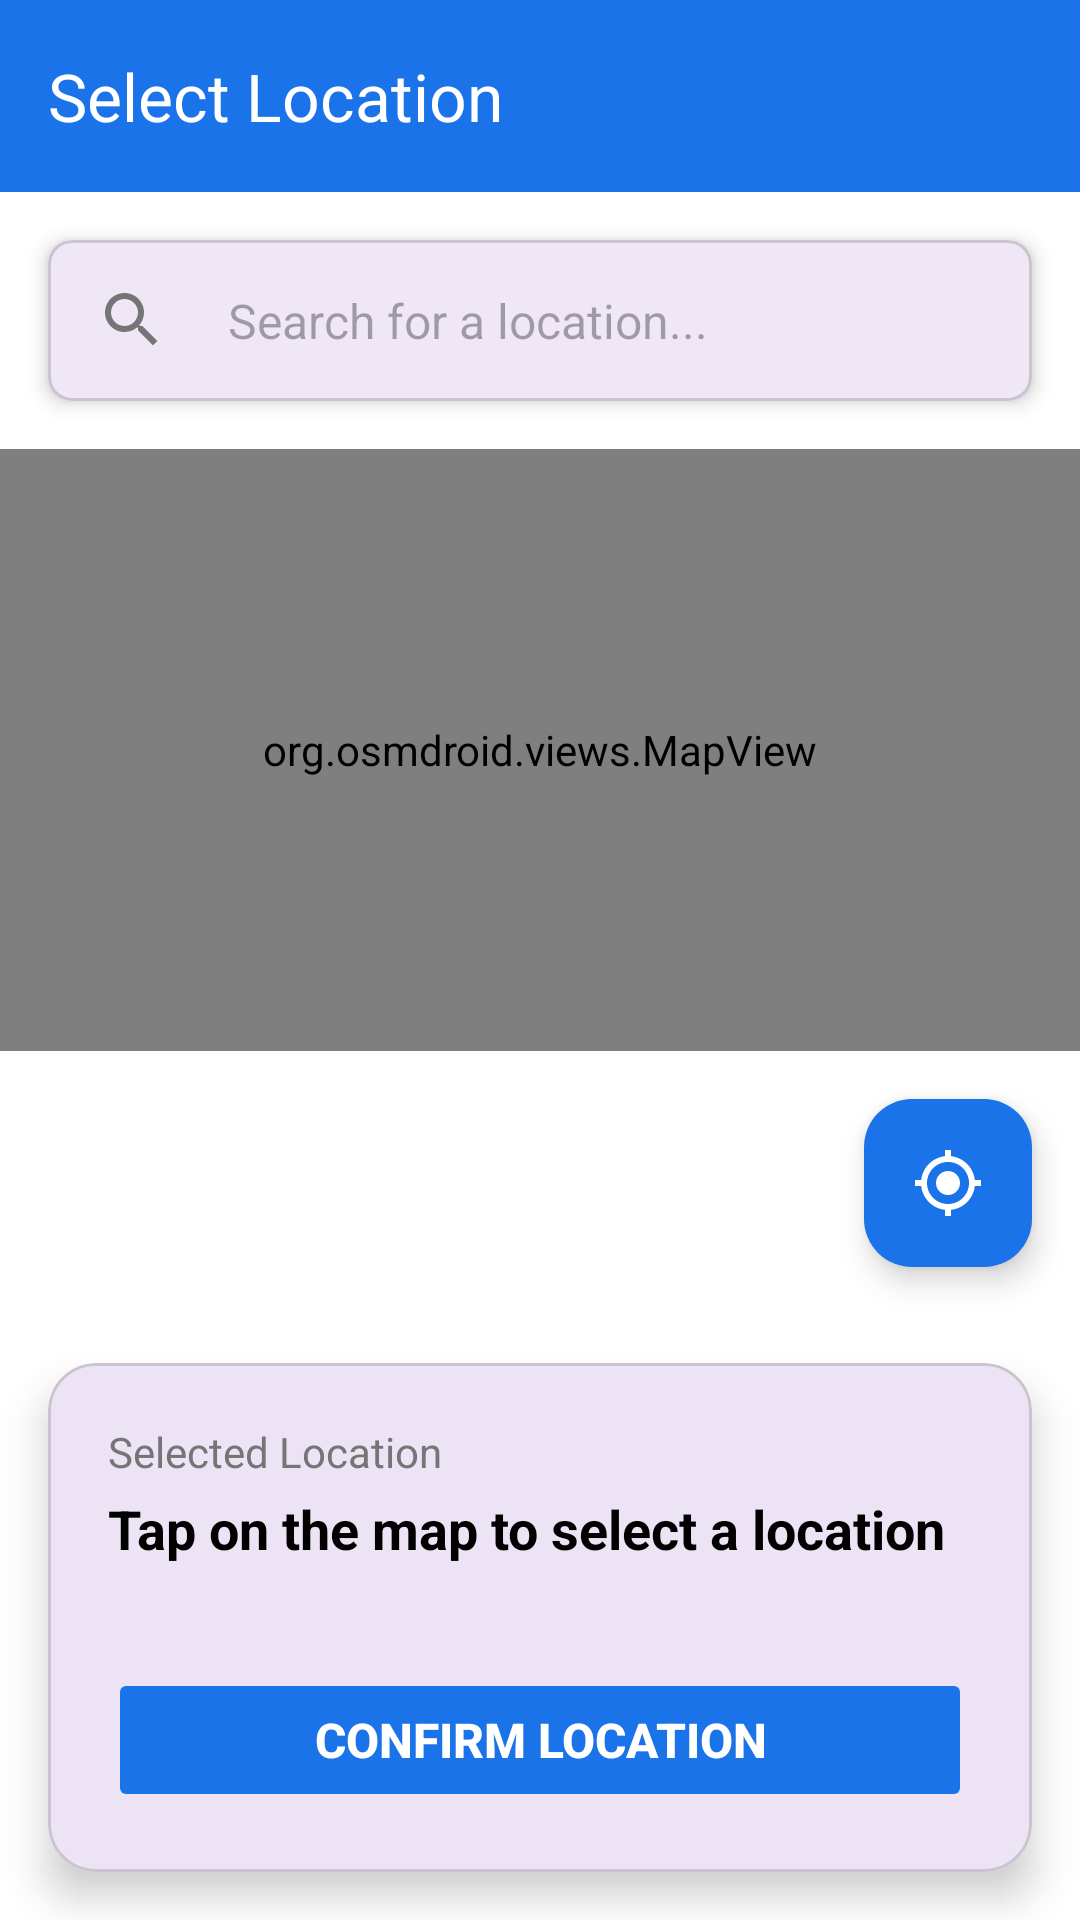

Icons on this 1080px x 1920px Android screen, each with the point to tap as (x,y):
Current Location: (948,1183)
